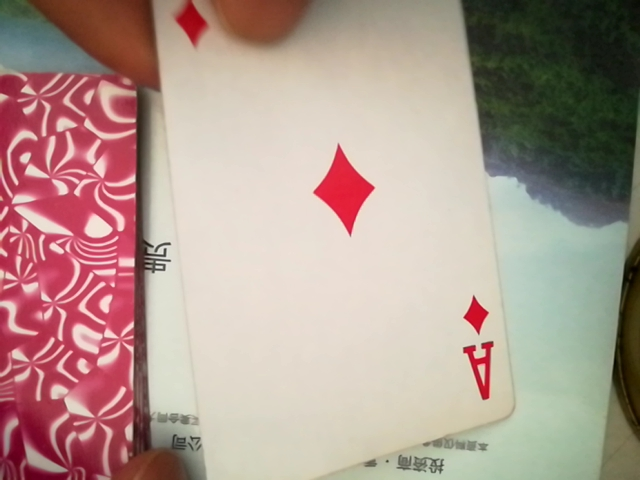fk a: (119, 5, 516, 477)
